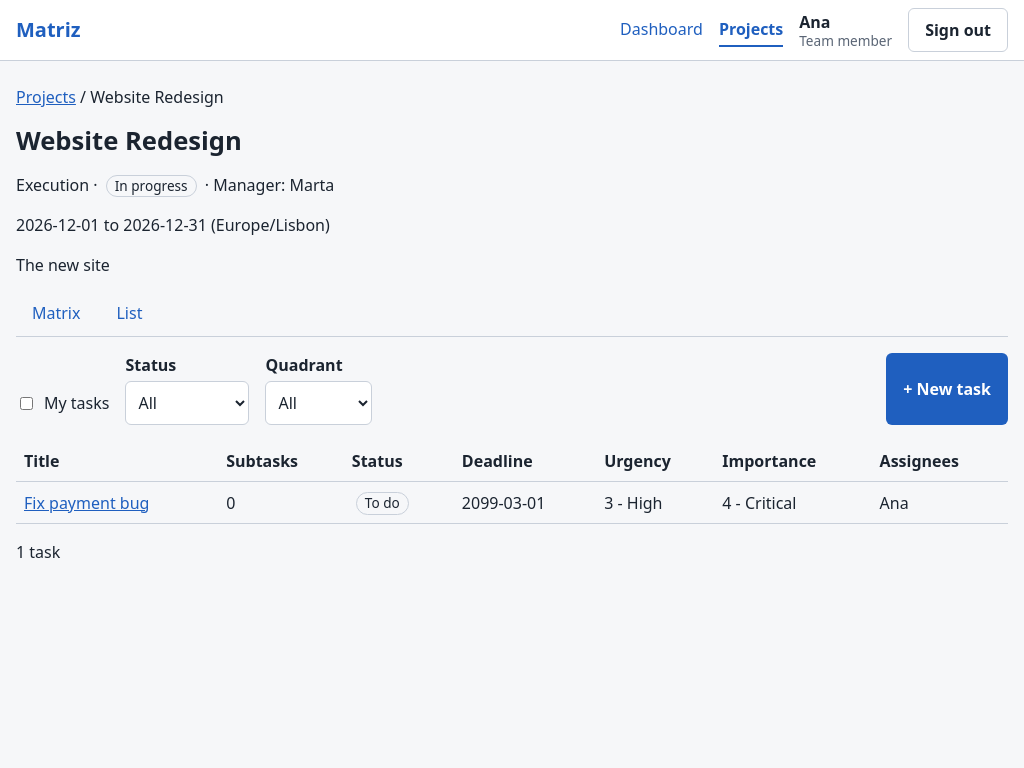
Test: the project and its tasks (F02, F04, F05, F22) › combines the filters, keeps them in the address, and says when nothing matches (F22, R25)
expect the link "Fix payment bug" is shown: met, box [24,492,149,514]
Step 1. Select "Blocked" in the dropdown labelled "Status" → (188, 403), box [126,381,250,425]
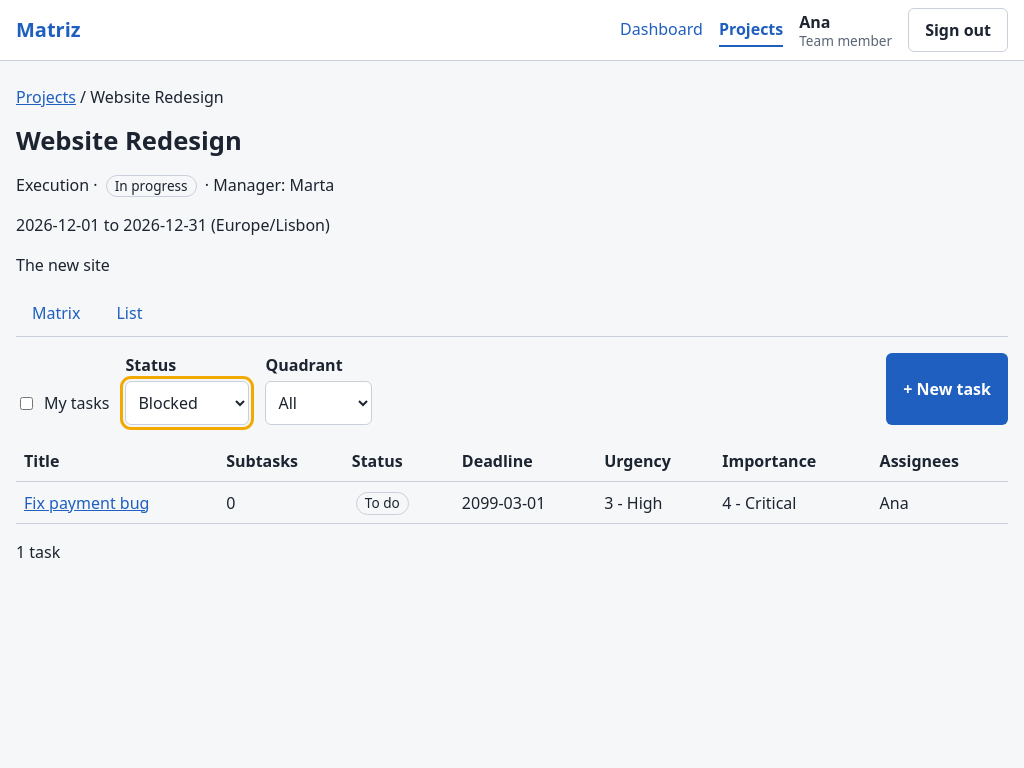
Step 2. Select "Schedule" in the dropdown labelled "Quadrant" → (319, 403), box [266,381,372,425]
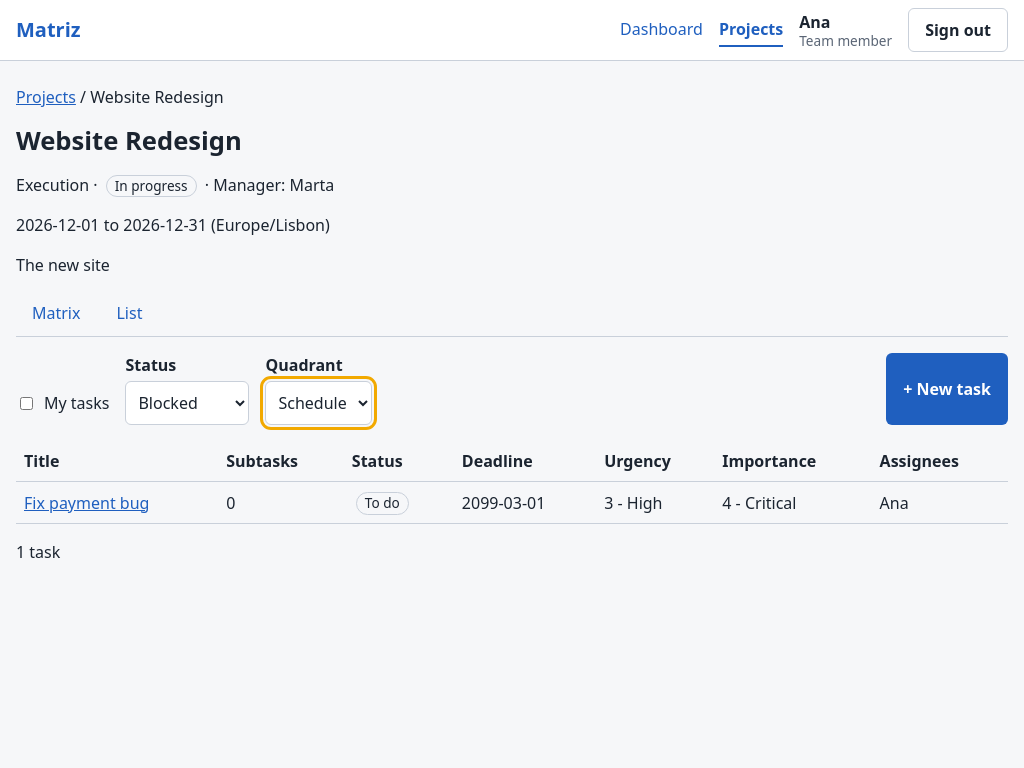
Step 3. Click the checkbox labelled "My tasks" → (26, 403), box [20,397,33,410]
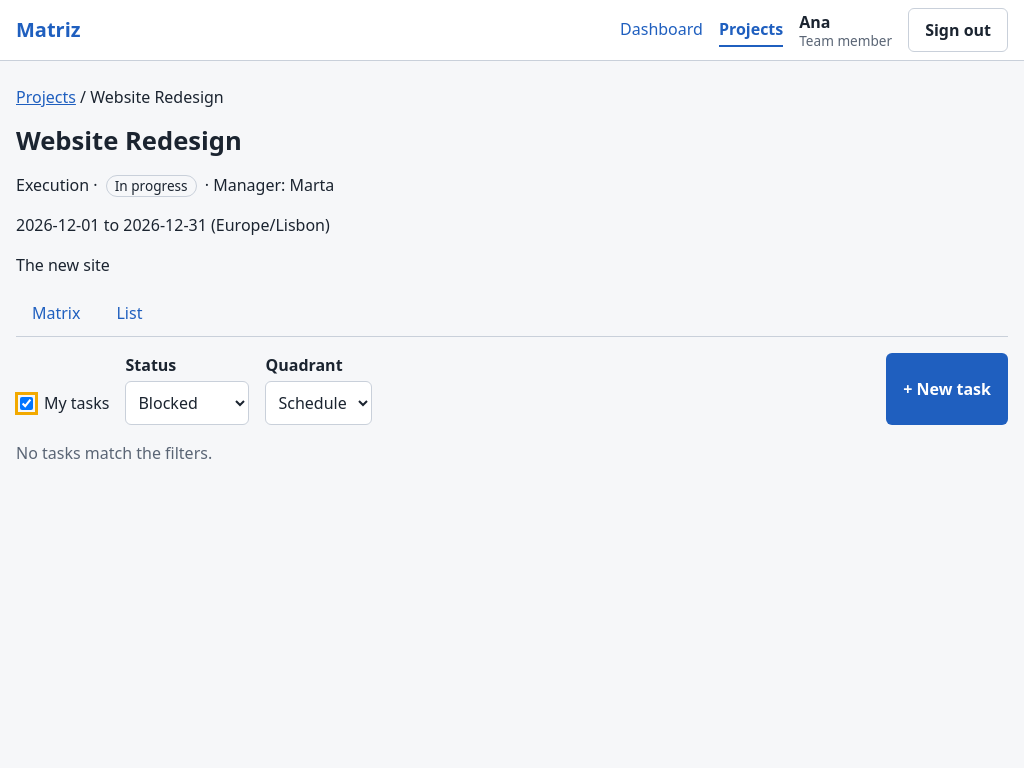
expect the text "No tasks match the filters." is shown: met, box [16,442,212,464]
